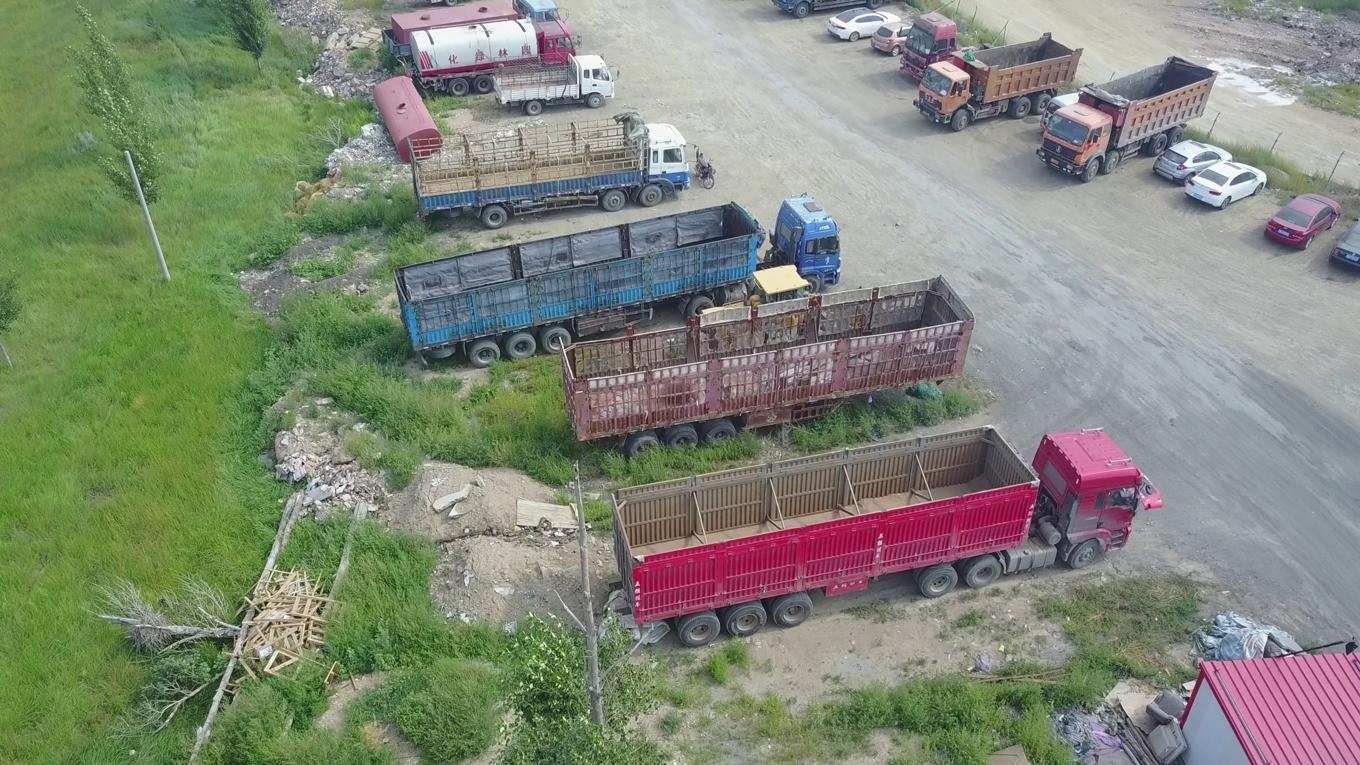car: (1263, 194, 1341, 250), (1184, 161, 1266, 209), (827, 6, 901, 42), (1329, 217, 1360, 271)
motor: (693, 152, 716, 189)
tricycle: (695, 261, 813, 343)
truck: (612, 424, 1162, 647), (393, 192, 841, 368), (407, 111, 699, 229), (1036, 55, 1218, 184), (913, 30, 1083, 132), (398, 8, 582, 97), (380, 0, 563, 69), (898, 12, 1028, 88), (492, 51, 619, 115)
van: (1040, 86, 1115, 138), (1152, 139, 1232, 187), (871, 21, 936, 56)
